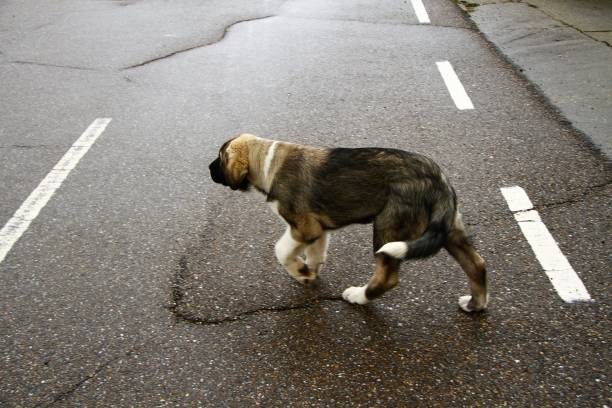kopek: (205, 126, 504, 346)
